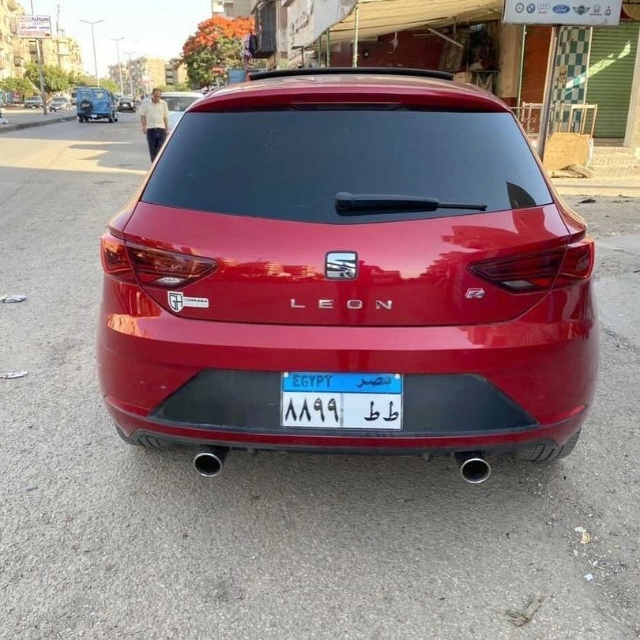License Plate: (277, 370, 404, 429)
